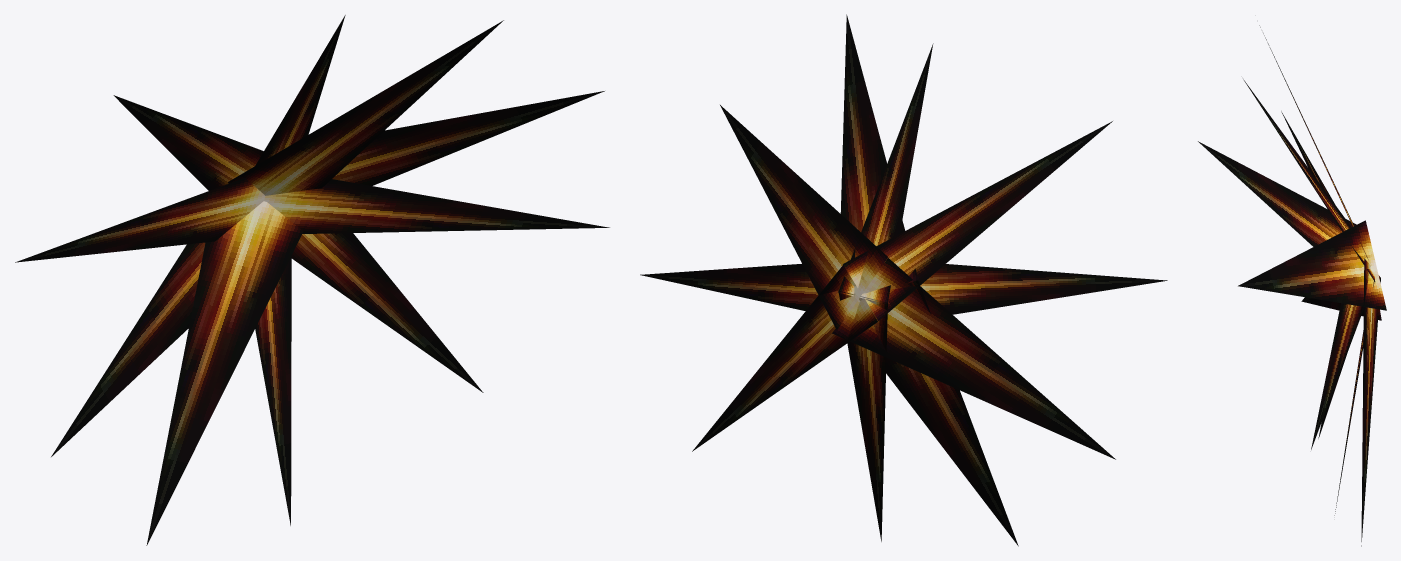
File: flashing.glb
3 views of the same model, side by side, from view 1: azimuth 30°, elevation 25°; view 2: azimuth 150°, elevation 25°; view 3: azimuth 270°, elevation 25° (orthographic). The views are drawn at different scales.
Visible parts, largest first — view 1: model_flashing; view 2: model_flashing; view 3: model_flashing.
Part boxes in pixels (left/top/right/bottom): model_flashing: left=15, top=15, right=609, bottom=545; model_flashing: left=640, top=14, right=1167, bottom=546; model_flashing: left=1198, top=25, right=1386, bottom=546.
Bounding box in the file's own units: 2.3 × 2 × 0.7729.
Materials: 1 (1 with a texture image).
